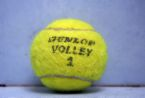tennis ball: (30, 17, 108, 93)
